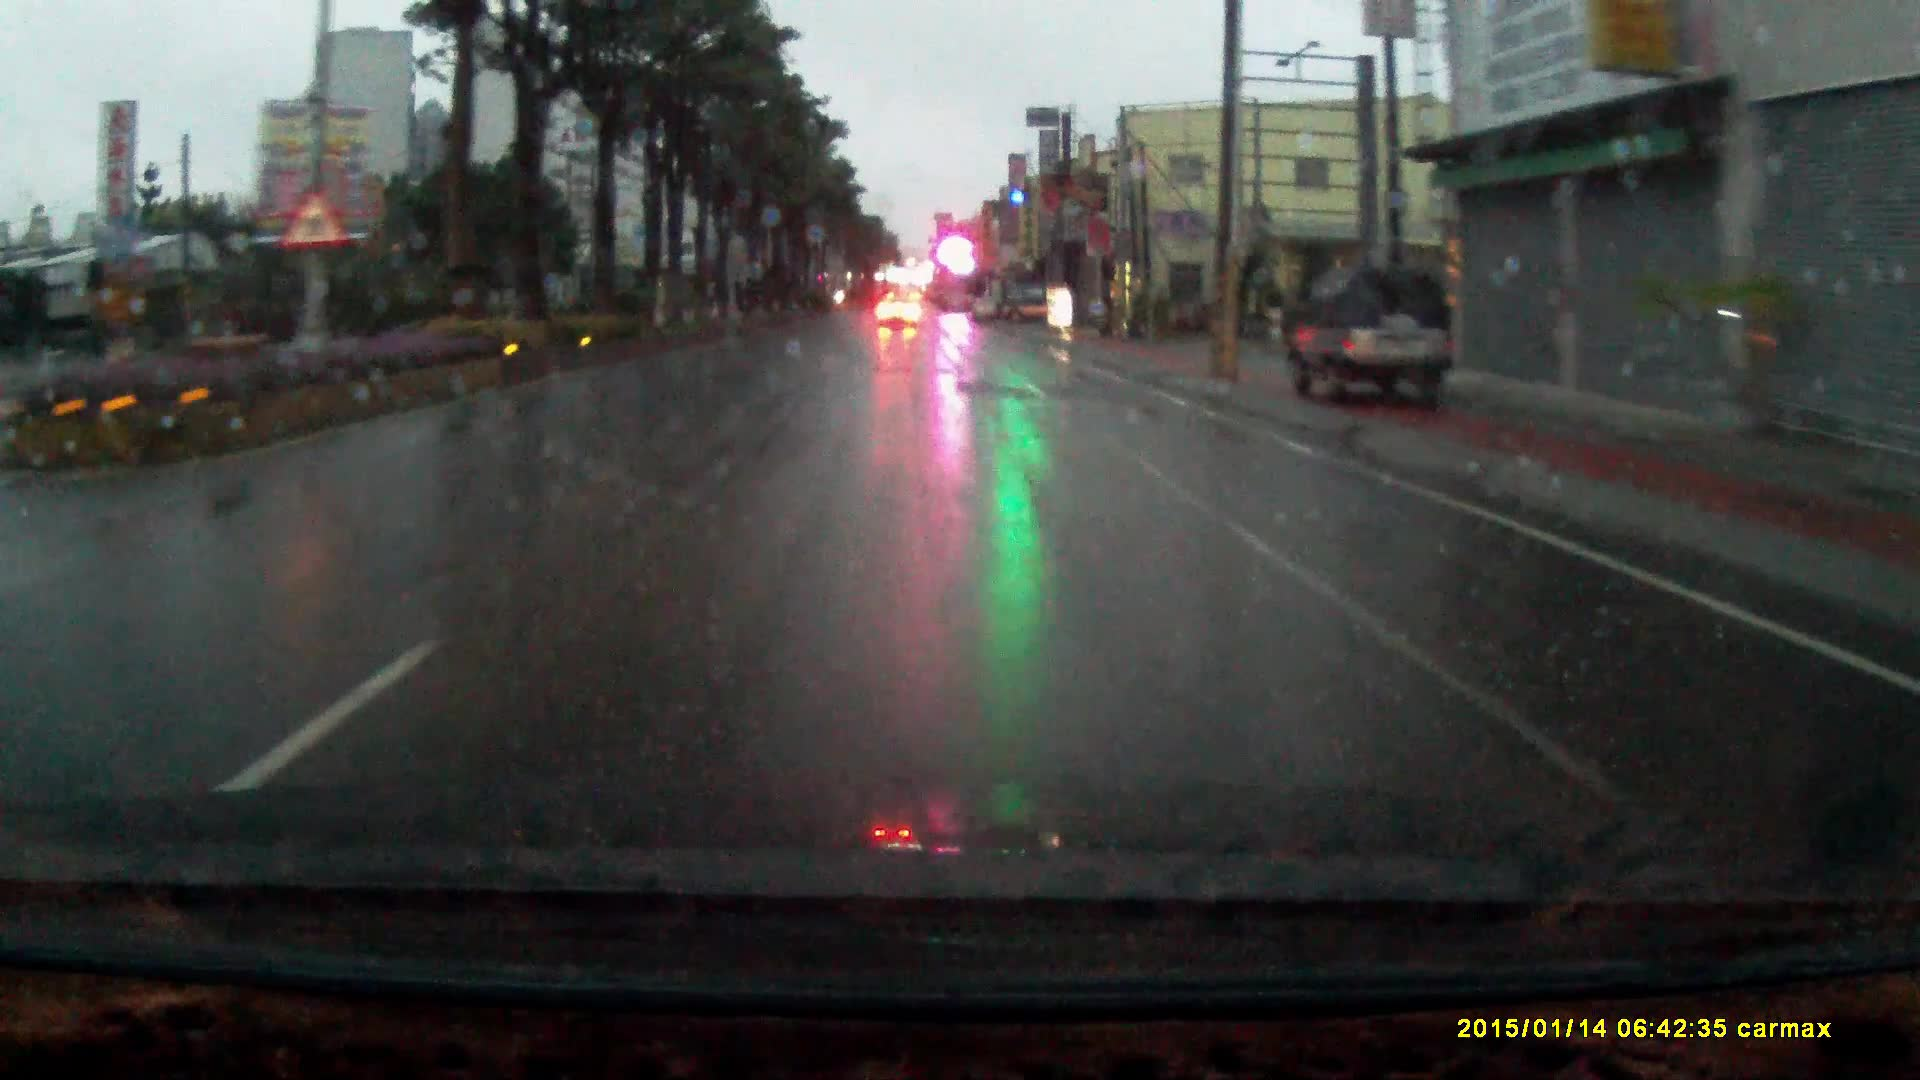vehicle: (1284, 274, 1462, 414), (877, 299, 922, 334)
